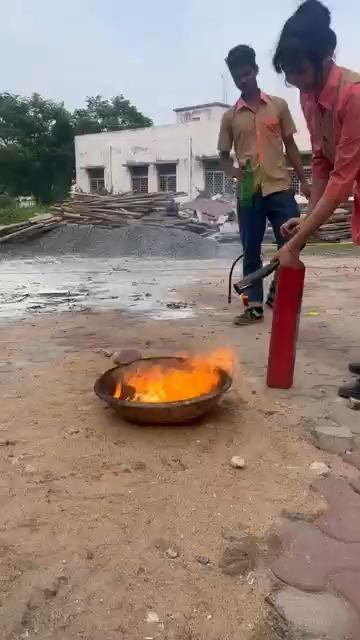FireExtinguisher: (257, 243, 315, 398)
